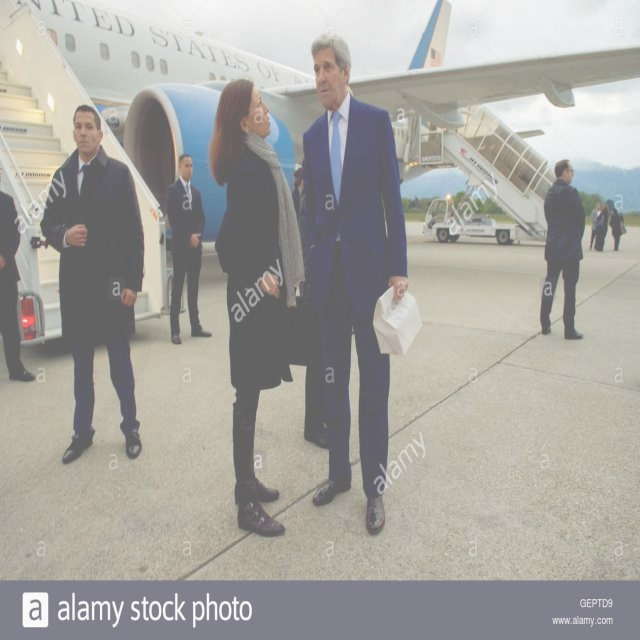pessoa: (287, 27, 427, 540), (206, 74, 308, 544), (38, 99, 150, 469), (536, 156, 586, 342), (165, 154, 212, 346), (0, 166, 38, 384), (290, 166, 304, 226), (588, 202, 604, 252), (594, 206, 610, 252), (608, 208, 624, 252)
